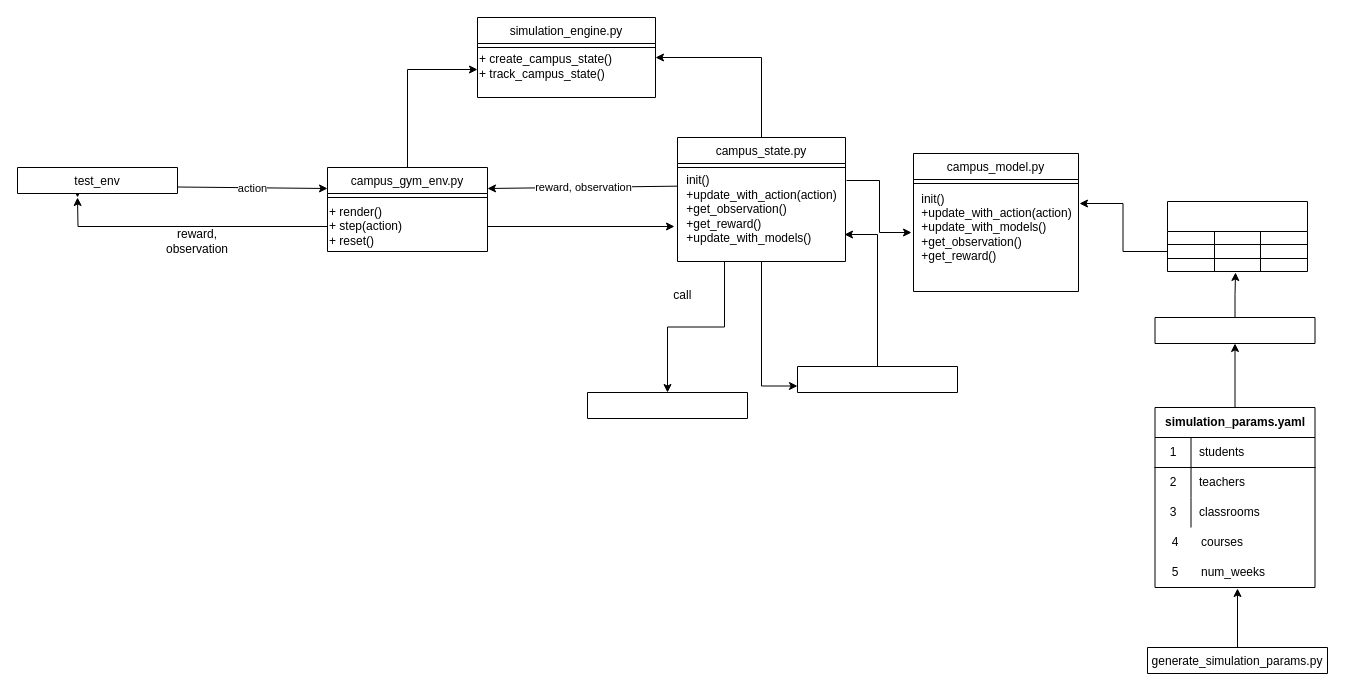
Image size: 1345x691. Some labels were removed from this diagram. Each missing label, with the centre of its shape:
.csv files: pixel 1237 236
generate_csv_files.py: pixel 1234 330
infection_model.py: pixel 667 405
scheduler.py: pixel 877 379
